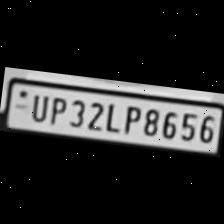2: (83, 97, 106, 131)
3: (64, 94, 88, 128)
5: (176, 108, 198, 142)
6: (156, 106, 180, 140), (194, 111, 218, 144)
8: (137, 104, 161, 138)
L: (101, 100, 122, 132)
P: (118, 101, 141, 135), (46, 92, 68, 126)
U: (26, 90, 50, 122)
